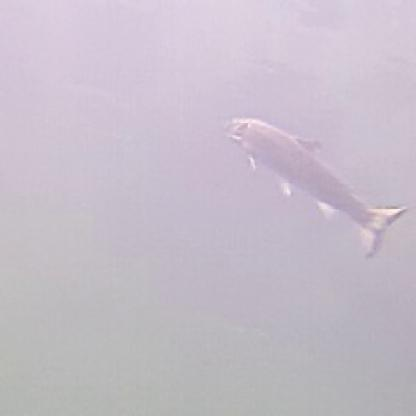salmon: (215, 111, 407, 255)
